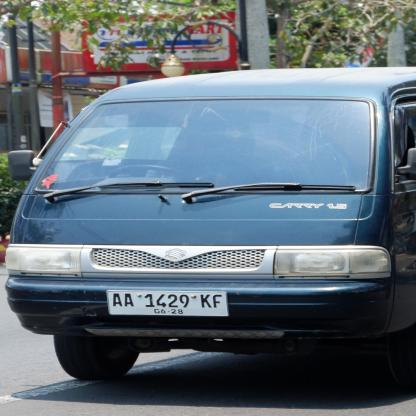Plat-Nomor: (103, 287, 232, 322)
